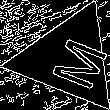M_NW: (34, 28, 103, 90)
